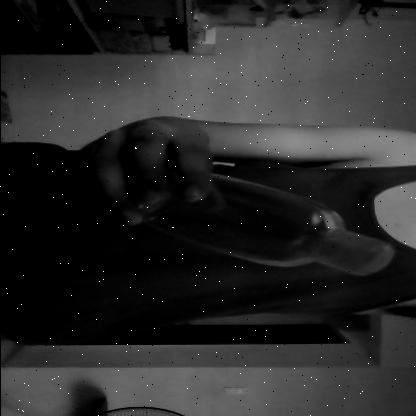Plastic Bottle: (124, 166, 402, 279)
